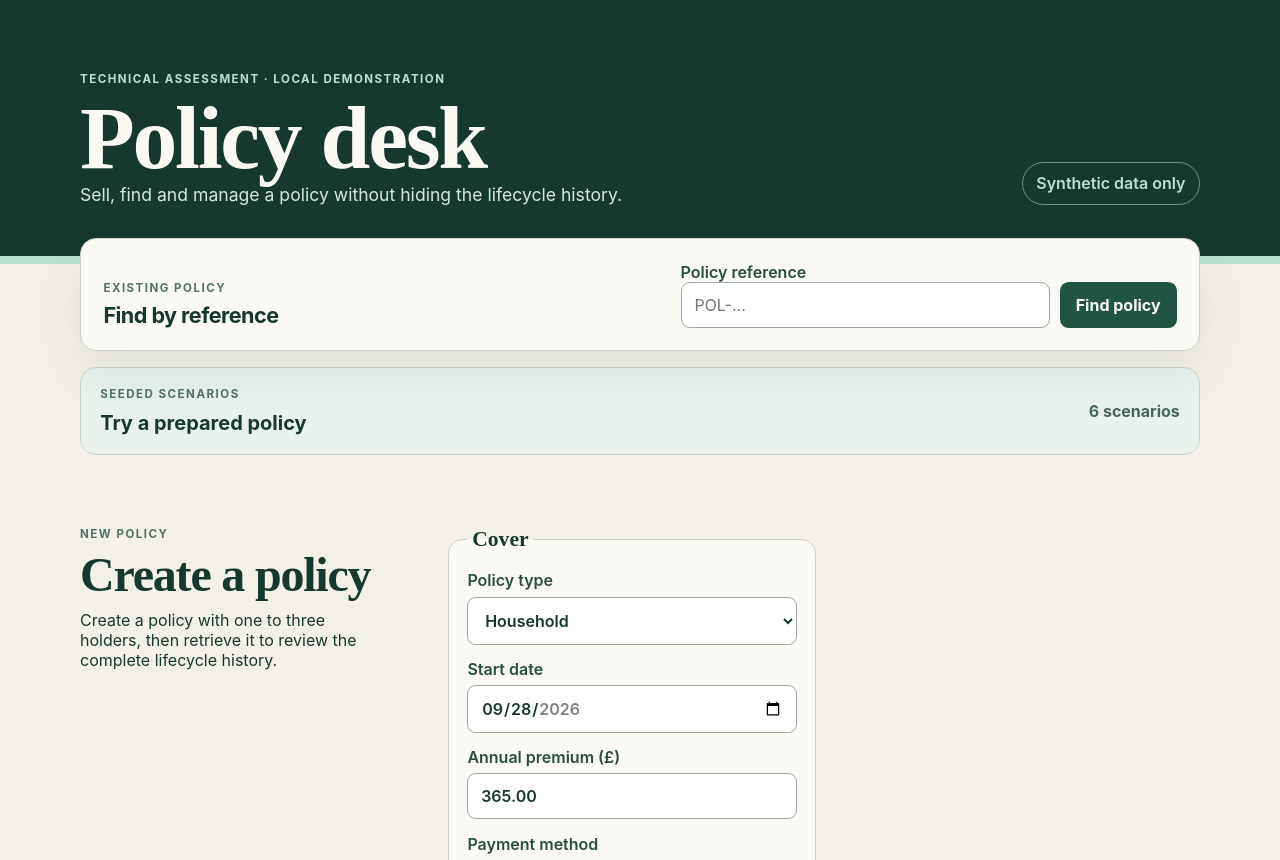
it: policy desk › renders retrieved history and refreshes after a conflict
Type "POL-DEMO123" into the field labelled "Policy reference" at point(865, 305), box [681,282,1050,328]
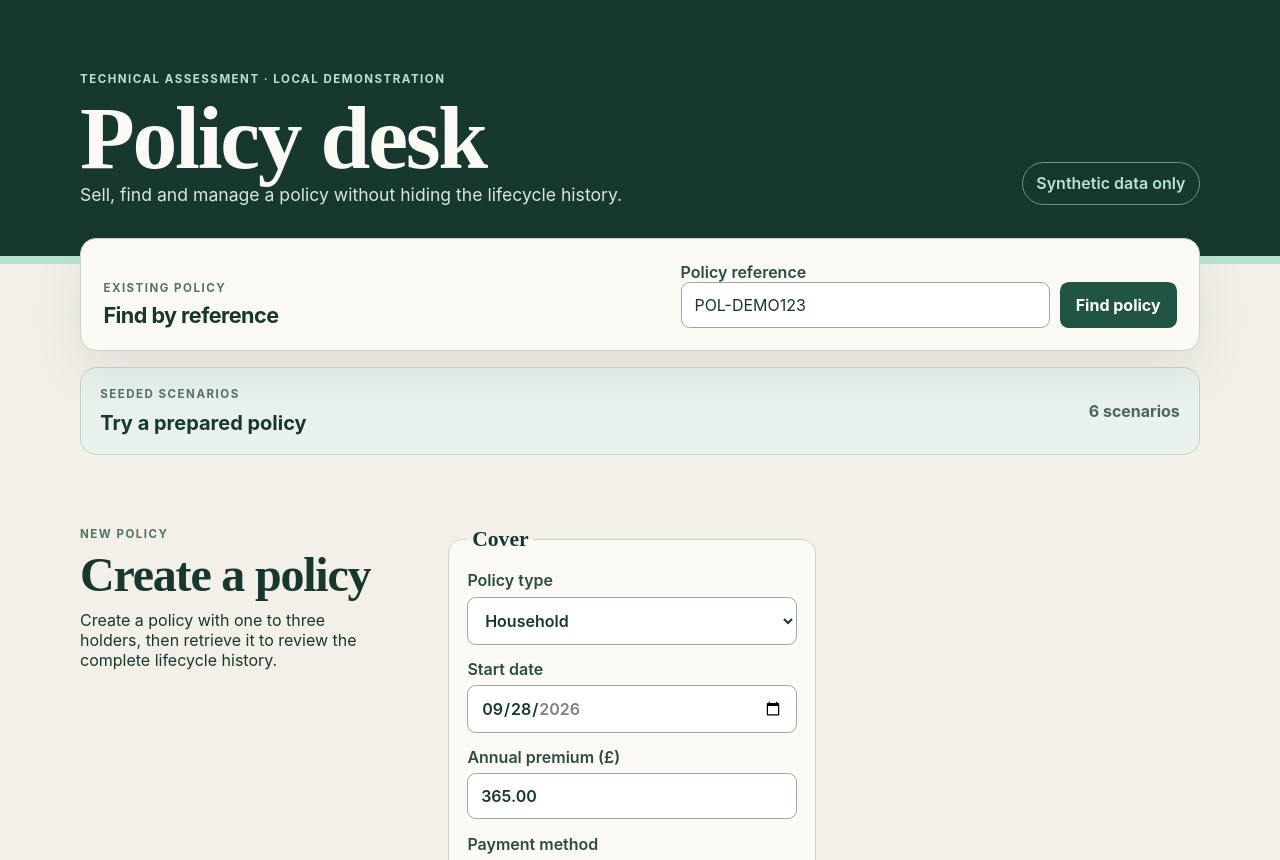
Submit the form labelled "Policy reference", box [681,262,1177,328]
(page scrolled)
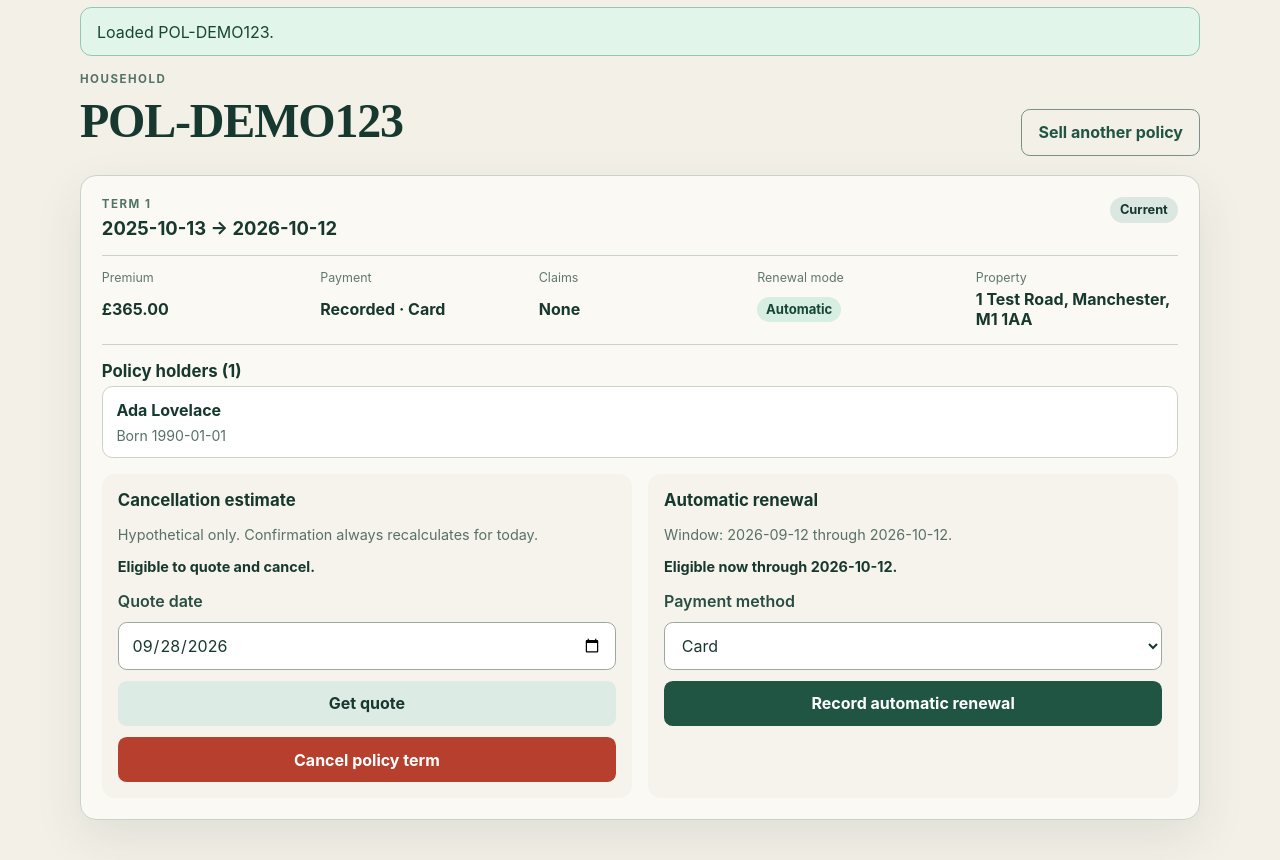
Now the heading "POL-DEMO123" is shown, box [80,93,403,148]
Submit the form "Automatic renewal", box [648,474,1178,798]
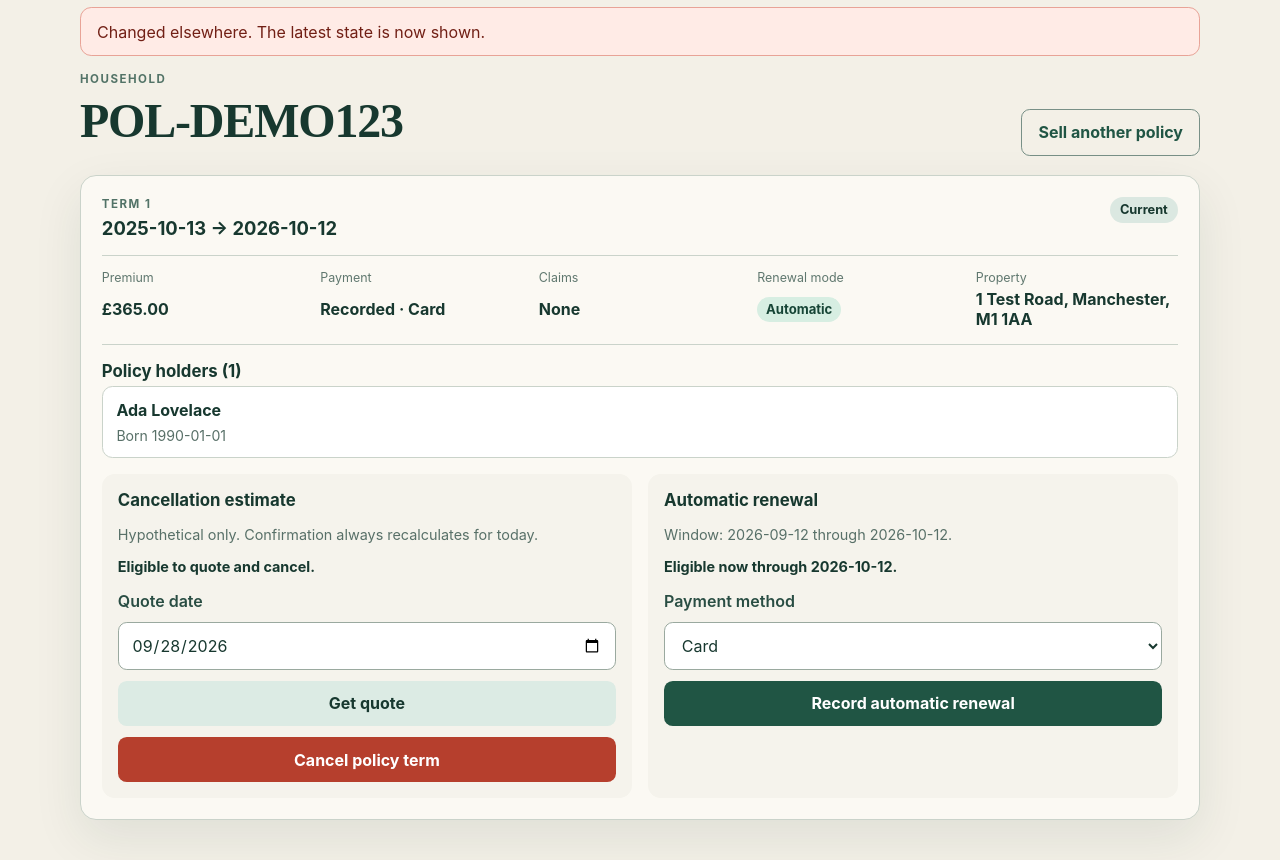
Now the message shows "Changed elsewhere.", box [97,22,485,42]
